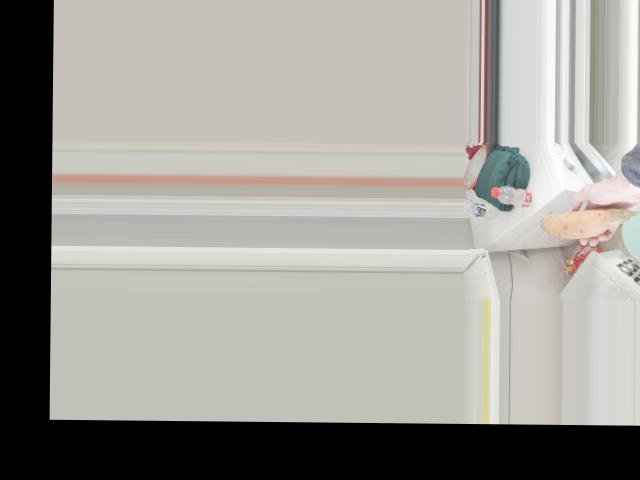sweet_potato: (544, 214, 640, 243)
